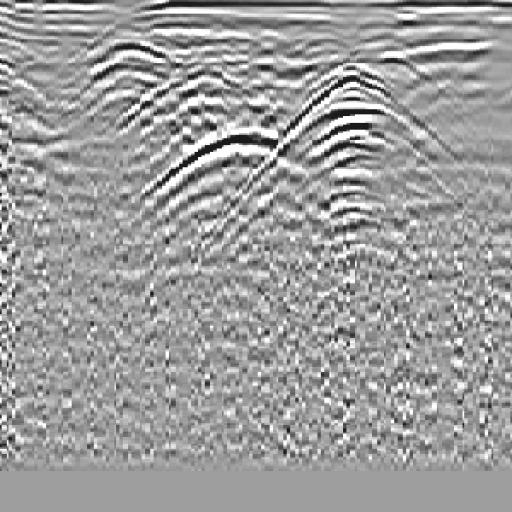metalic: (249, 53, 452, 209)
